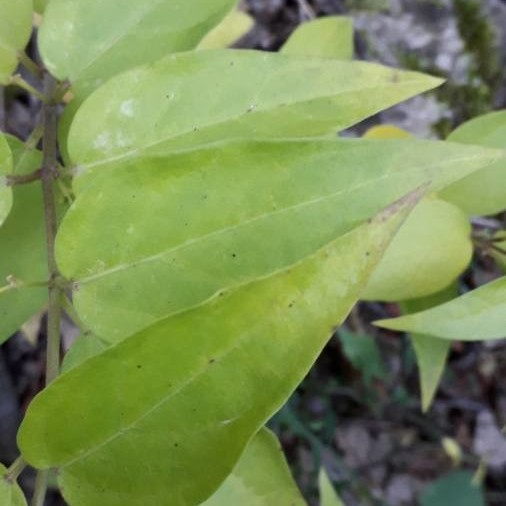obstacle: (54, 41, 438, 475)
